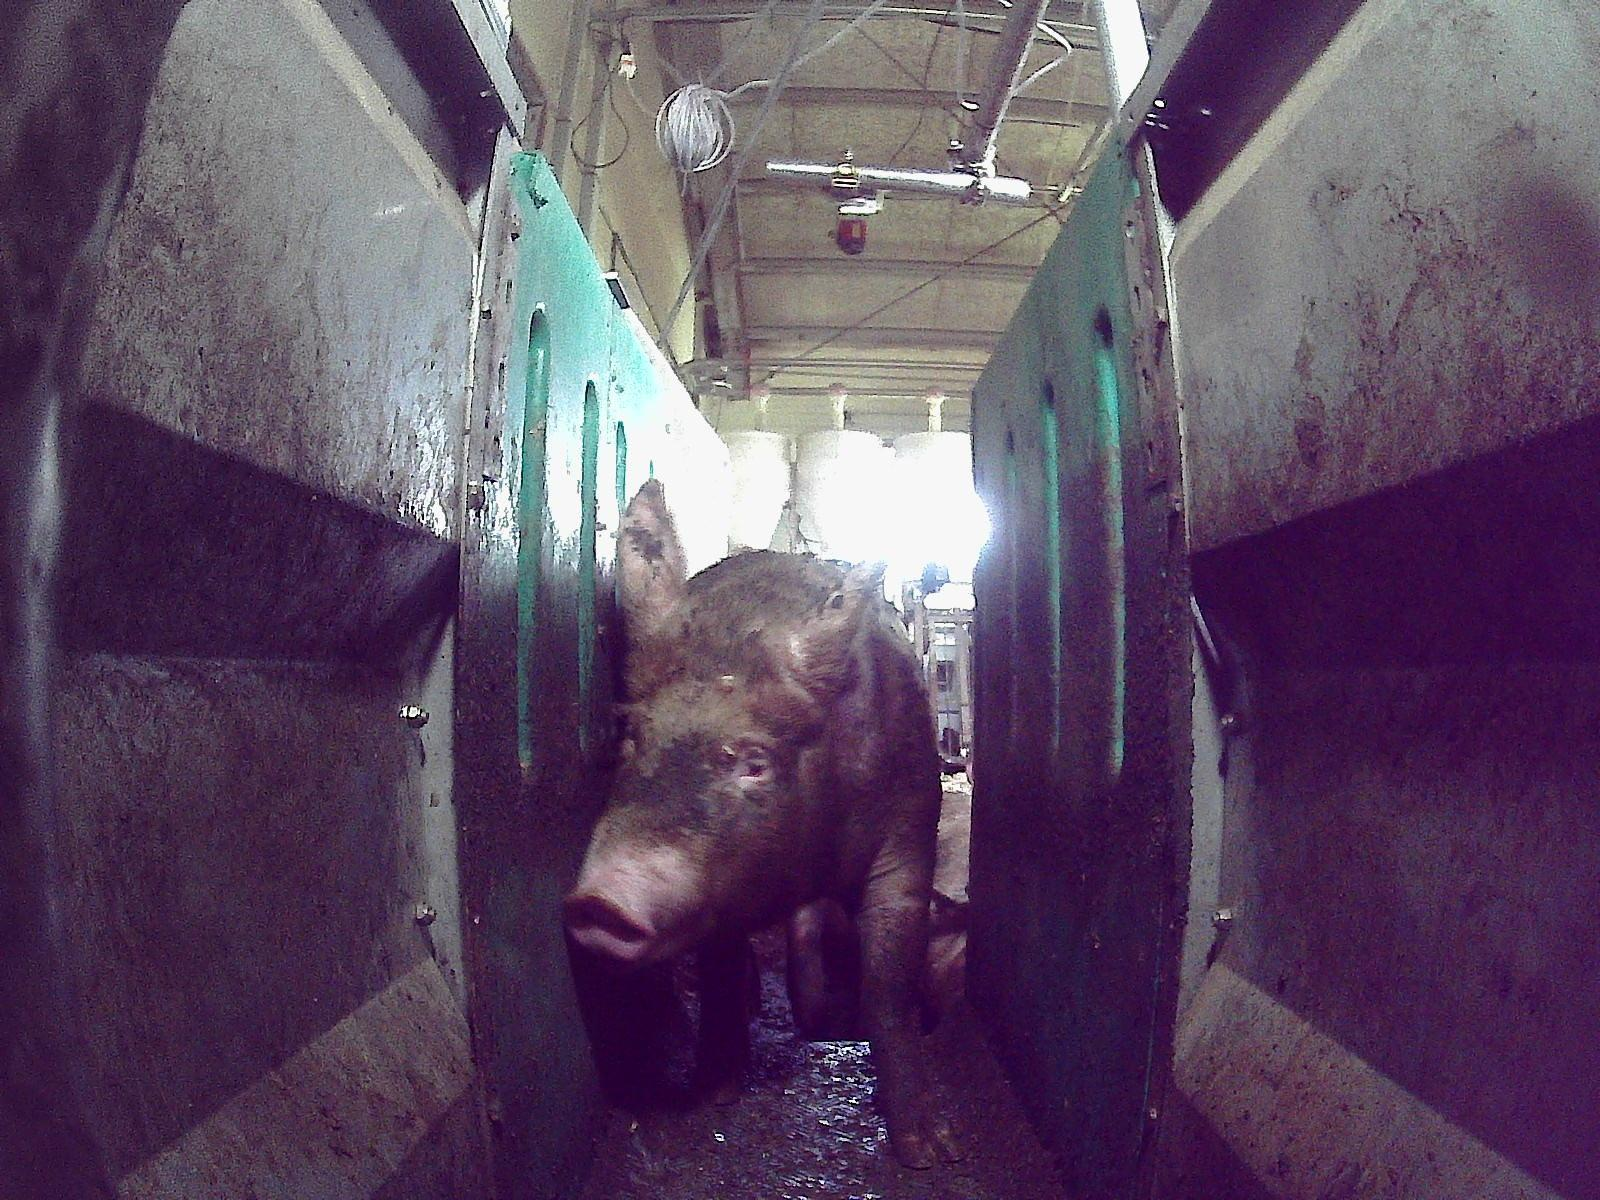Face: (557, 620, 829, 961)
